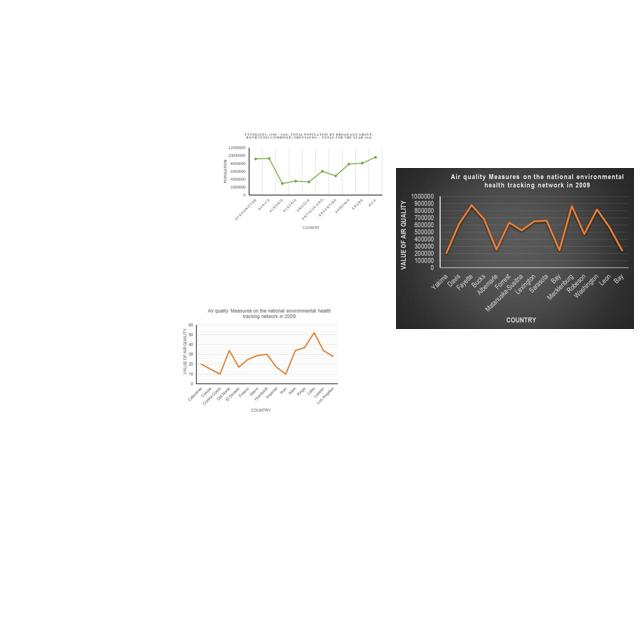Graph: (396, 168, 634, 329), (180, 306, 342, 414), (221, 131, 385, 230)
